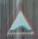Speed Breaker ahead: (0, 5, 36, 38)
